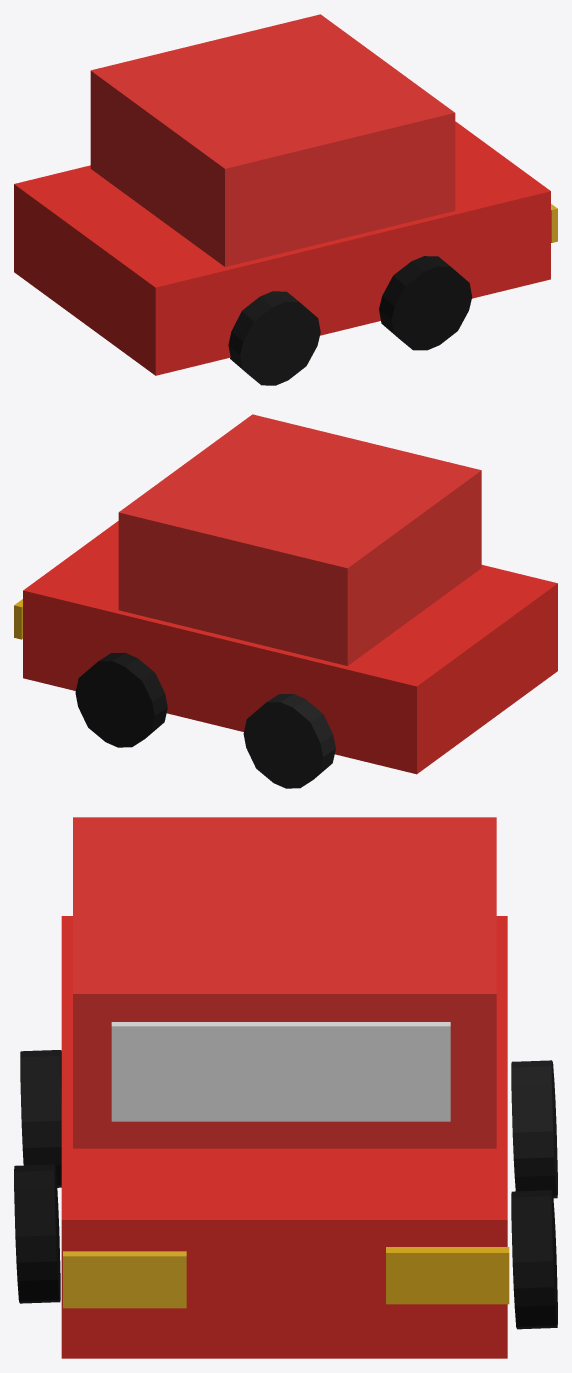
Rendered from car.gltf.
The picture shows the model from 3 angles, top to bottom: view 1: azimuth 30°, elevation 25°; view 2: azimuth 150°, elevation 25°; view 3: azimuth 270°, elevation 25°; orthographic projection. The views are drawn at different scales.
Parts seen in each view (by area): view 1: Cube.001, Cube, Cube.007, Cube.006; view 2: Cube.001, Cube, Cube.005, Cube.004; view 3: Cube.001, Cube, Cube.008, Cube.003, Cube.002, Cube.007, Cube.004, Cube.005, Cube.006.
Part boxes in pixels (x1,y1,x2,y2): Cube.001: (90, 14, 455, 266); Cube: (14, 121, 550, 375); Cube.007: (379, 256, 472, 350); Cube.006: (228, 291, 320, 385); Cube.001: (118, 414, 481, 665); Cube: (23, 521, 557, 774); Cube.005: (243, 693, 335, 788); Cube.004: (75, 652, 167, 747); Cube.001: (73, 817, 496, 1148); Cube: (61, 916, 507, 1358); Cube.008: (111, 1022, 450, 1121); Cube.003: (63, 1251, 186, 1308); Cube.002: (386, 1247, 509, 1304); Cube.007: (14, 1164, 60, 1303); Cube.004: (511, 1190, 557, 1329); Cube.005: (511, 1060, 557, 1198); Cube.006: (20, 1050, 61, 1187).
Size of the model in its own units: 6.95 by 3.59 by 5.15.
